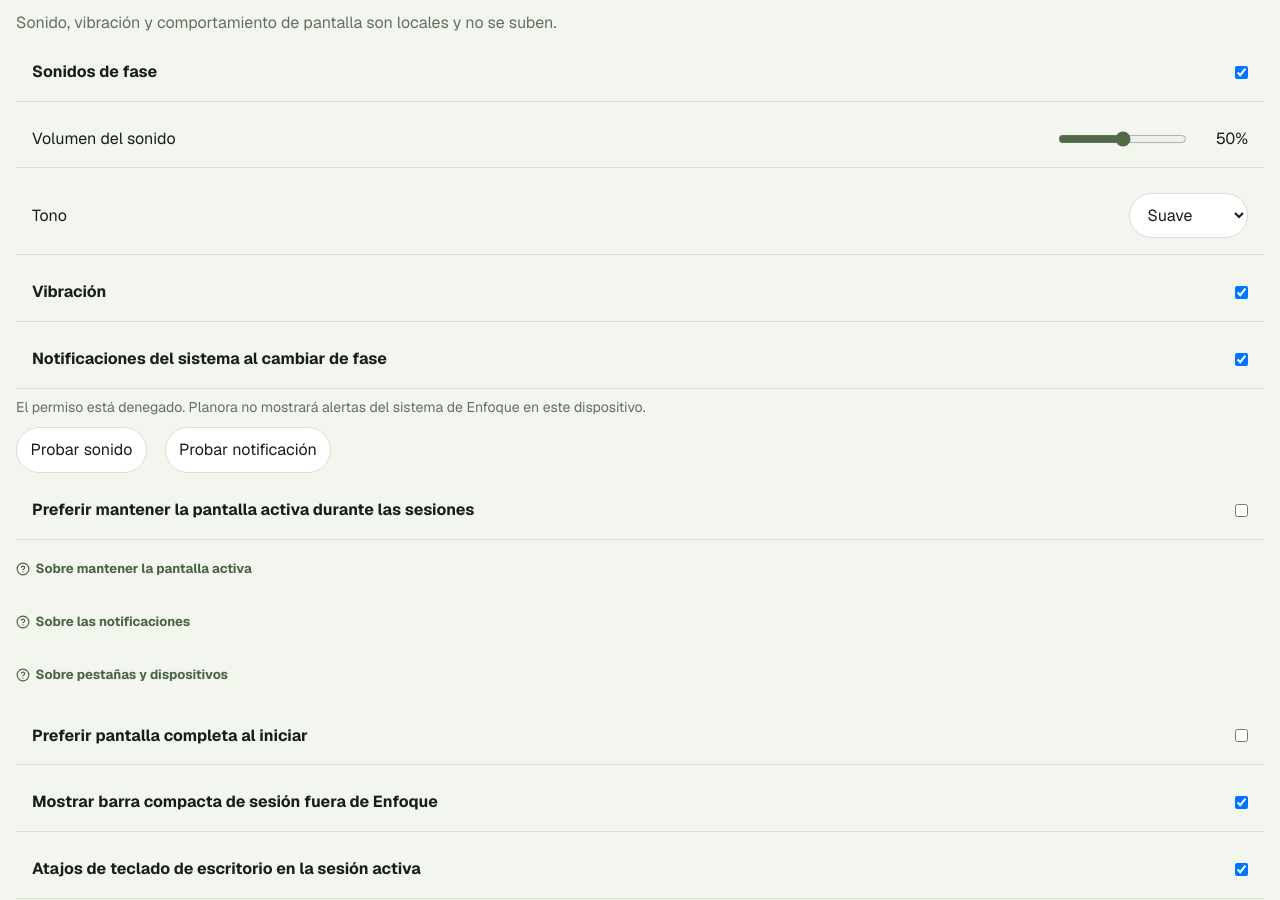
Test case: focus sound preview › fails locally when the audio API is missing
The width and height of the screenshot is (1280, 900).
(page scrolled)
Click the button "Probar sonido": (81, 450) [16,427,147,473]
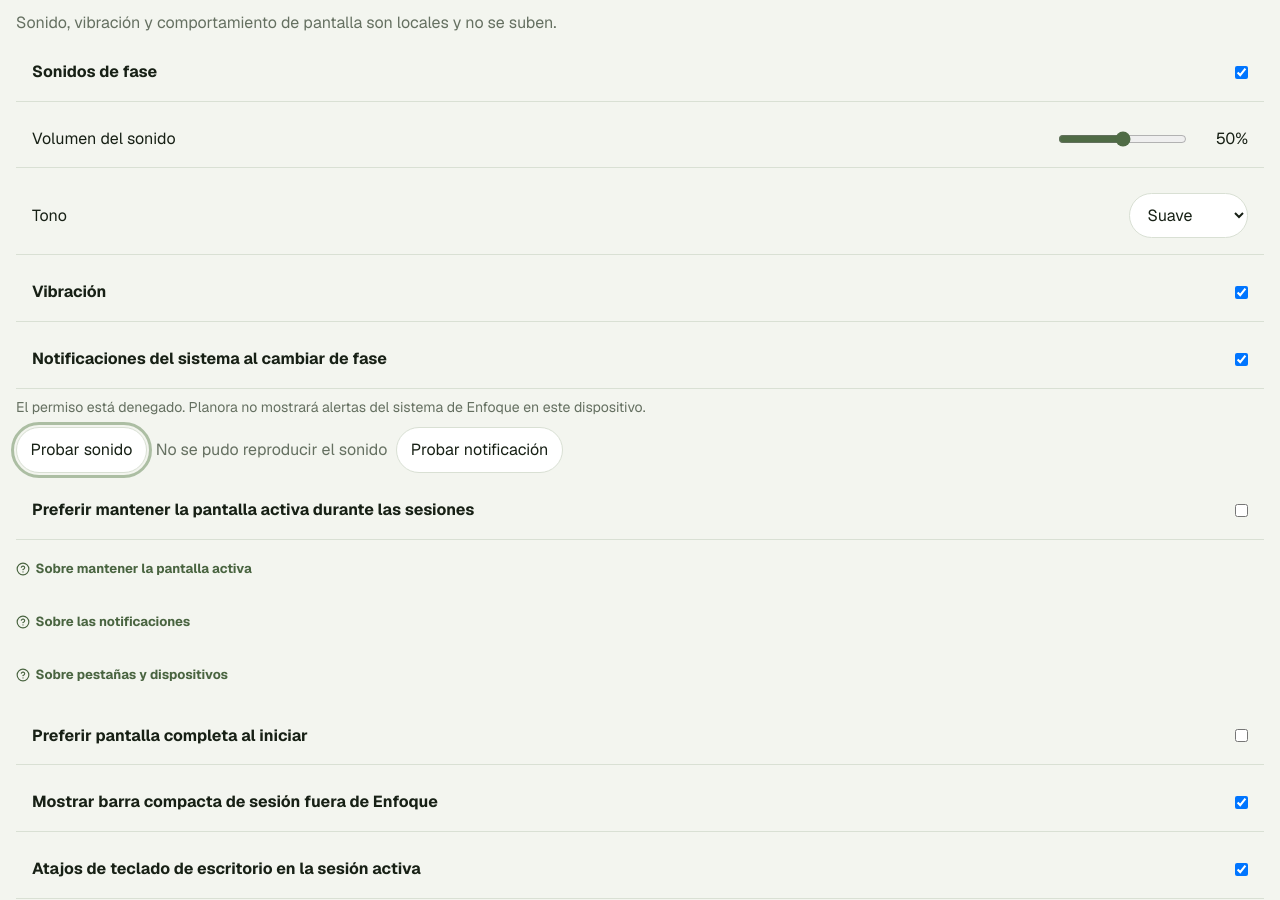
Now the text "No se pudo reproducir el sonido" is shown, box [156,438,387,462]
